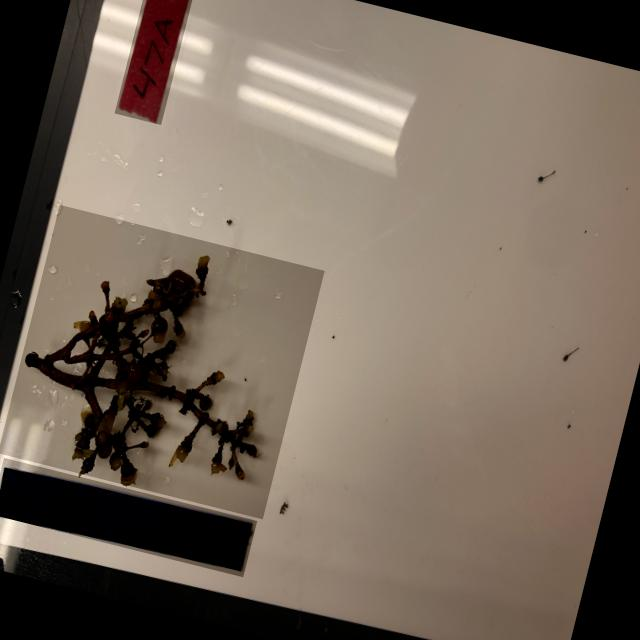index: (114, 0, 198, 123)
measure_label: (0, 456, 257, 575)
rachis_cluster: (0, 203, 324, 517)
